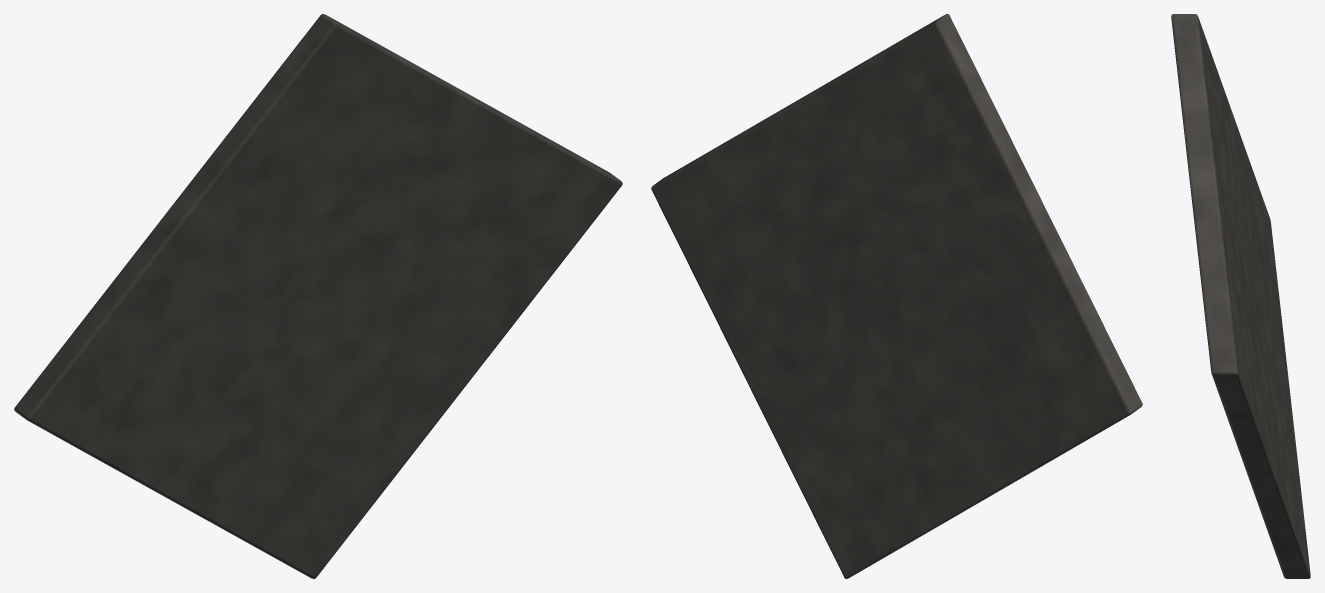
The model's file is slab.obj.
3 renders of one model, left to right at view 1: azimuth 30°, elevation 25°; view 2: azimuth 150°, elevation 25°; view 3: azimuth 270°, elevation 25°, orthographic. The views are drawn at different scales.
Parts seen in each view (by area): view 1: slab; view 2: slab; view 3: slab.
Boxes of the visible parts, x1,y1,x2,y2 form: slab: [14, 14, 622, 578]; slab: [651, 14, 1142, 578]; slab: [1171, 14, 1310, 578].
Bounding box in the file's own units: 3.3 × 3.34 × 0.774.
Materials: 1 (1 with a texture image).
